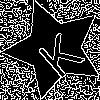K: (29, 24, 86, 81)
